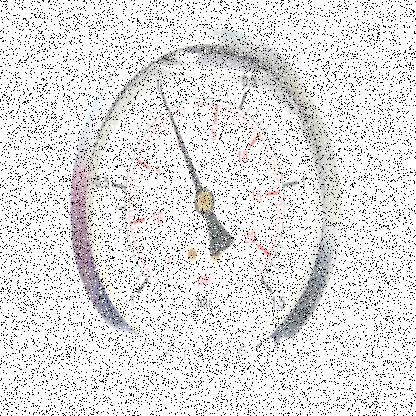needle: (158, 89, 203, 191)
